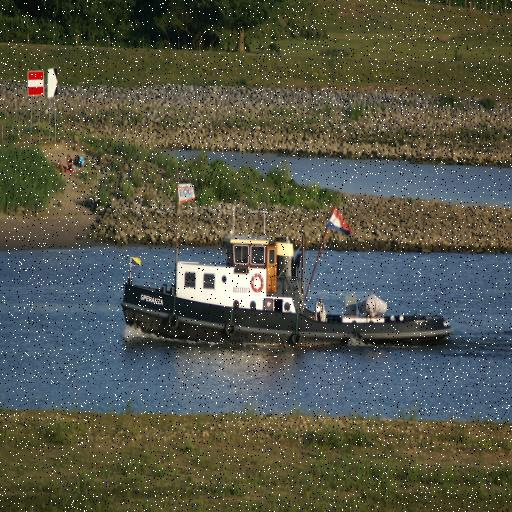tugboat: (119, 178, 455, 356)
